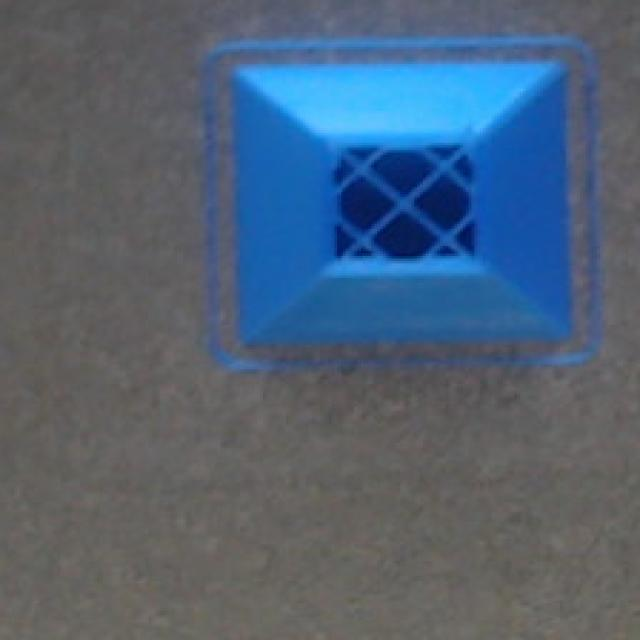noMistake: (235, 66, 573, 350)
